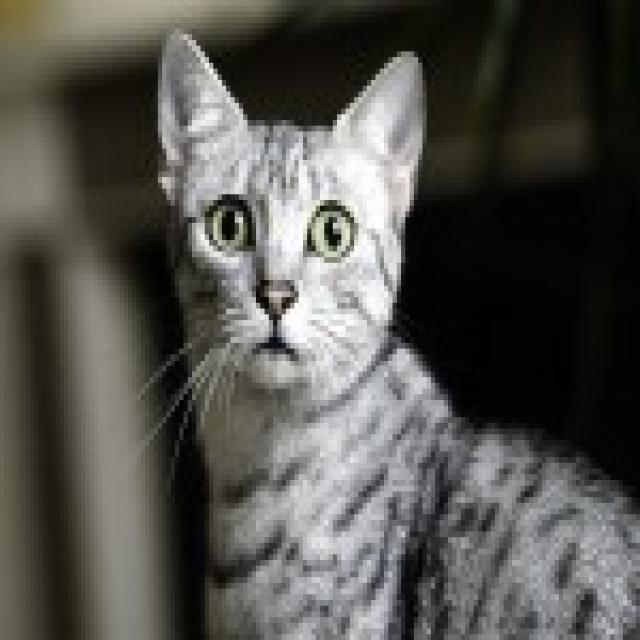Egyptian_Mau: (149, 23, 418, 377)
